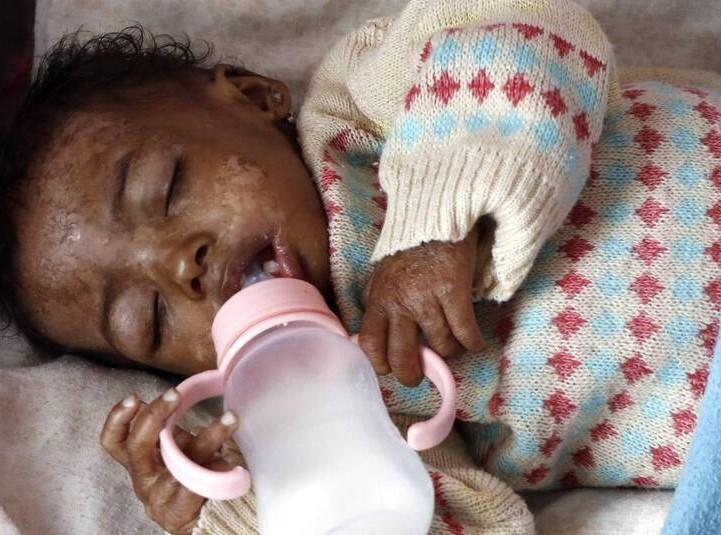Stunting: (3, 36, 333, 386)
